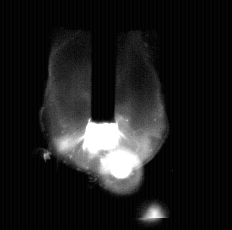arame: (91, 0, 116, 124)
poca: (45, 0, 168, 230)
